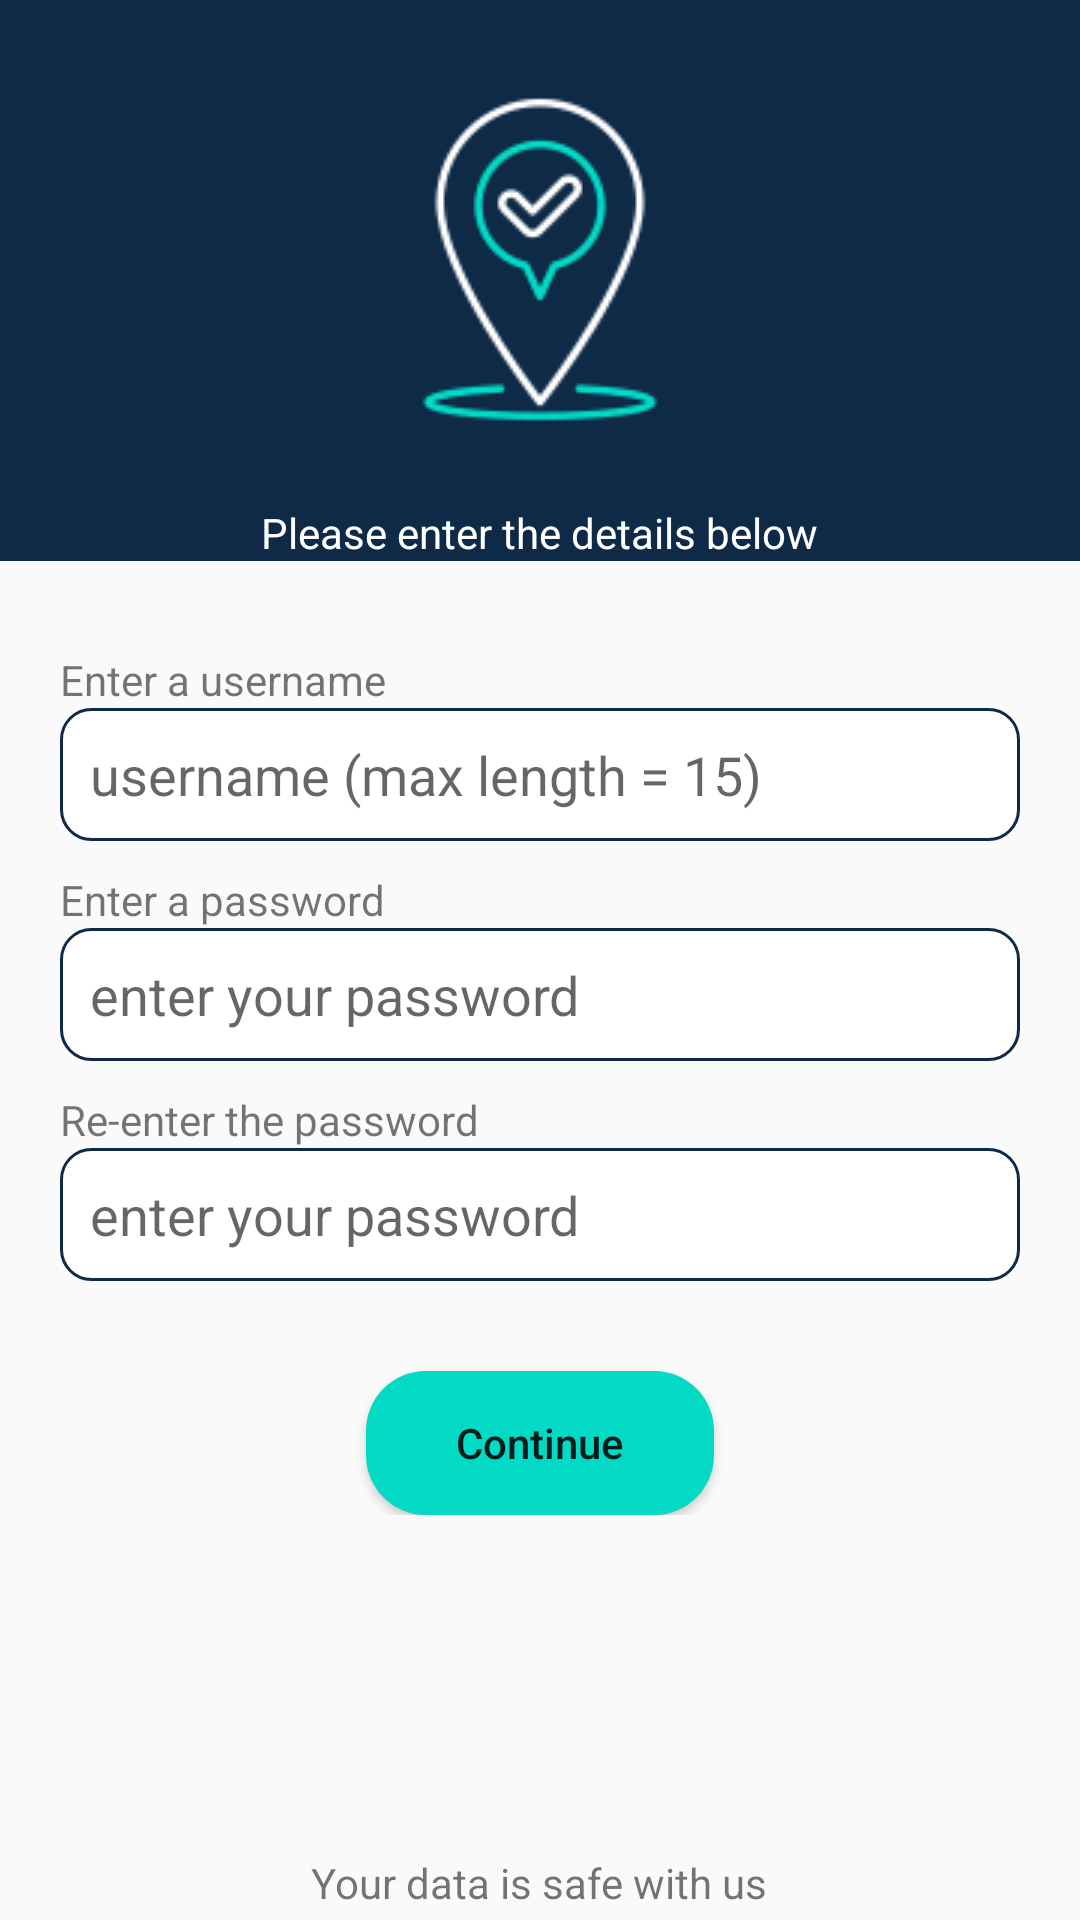

Screen size 1080x1920. Icon name, then its center in pixels as point (x, y):
geotag: point (540, 259)
